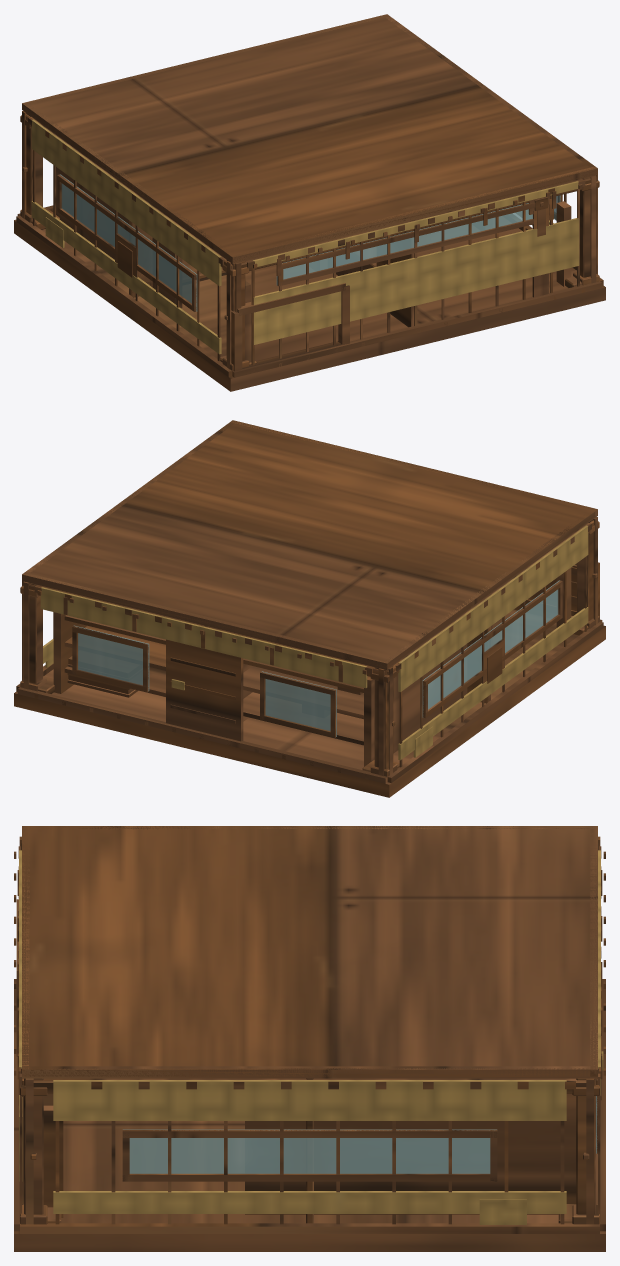
The picture shows the model from 3 angles, top to bottom: view 1: azimuth 30°, elevation 25°; view 2: azimuth 150°, elevation 25°; view 3: azimuth 270°, elevation 25°; orthographic projection. The views are drawn at different scales.
Parts seen in each view (by area): view 1: SM_HDBF_BoxFarm_Intermediate_LOD0; view 2: SM_HDBF_BoxFarm_Intermediate_LOD0; view 3: SM_HDBF_BoxFarm_Intermediate_LOD0.
Boxes of the visible parts, box(x1,y1,x2,y2) form: SM_HDBF_BoxFarm_Intermediate_LOD0: box(14, 14, 605, 391); SM_HDBF_BoxFarm_Intermediate_LOD0: box(14, 420, 605, 797); SM_HDBF_BoxFarm_Intermediate_LOD0: box(14, 826, 605, 1251).
Size of the model in its own units: 3 by 1 by 3.
3 materials, 3 textured.
